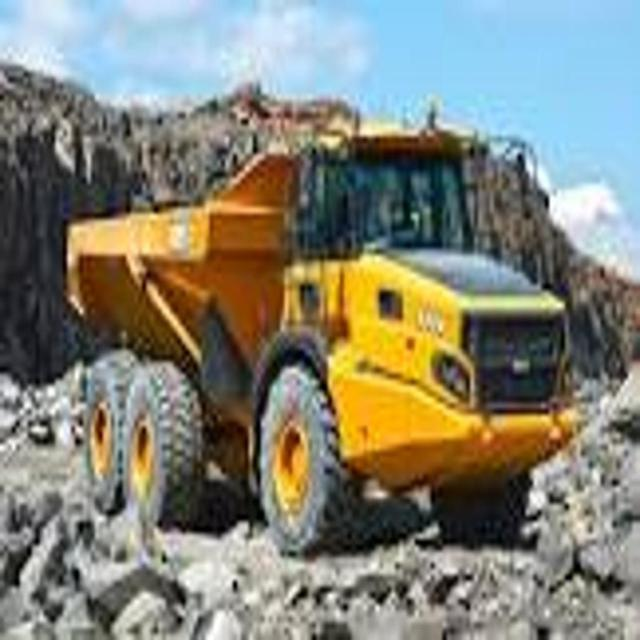dump_truck: (62, 104, 580, 560)
